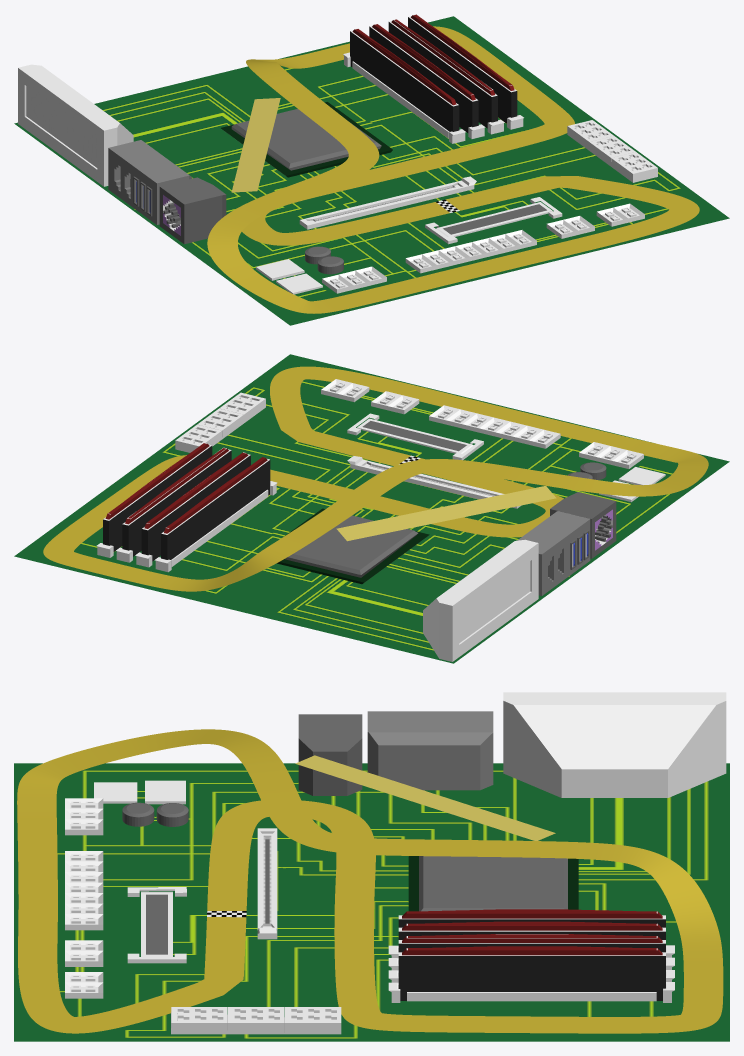
File: Motherboard.glb
The picture shows the model from 3 angles, top to bottom: view 1: azimuth 30°, elevation 25°; view 2: azimuth 150°, elevation 25°; view 3: azimuth 270°, elevation 25°; orthographic projection. The views are drawn at different scales.
Visible parts, largest first — view 1: Plane, track plane, Ram, MorePorts, plug, CPU, htmlPorts, boxPort, ports, shortcut, GraphicsPort, SSD (+3 smaller); view 2: Plane, track plane, Ram, MorePorts, CPU, plug, htmlPorts, shortcut, ports, boxPort, SSD, GraphicsPort (+2 smaller); view 3: Plane, track plane, Ram, MorePorts, htmlPorts, CPU, plug, ports, boxPort, shortcut, SSD, GraphicsPort (+2 smaller).
Boxes of the visible parts, bbox=[...] form: Plane: bbox=[14, 16, 729, 325]; track plane: bbox=[207, 26, 699, 313]; Ram: bbox=[343, 14, 523, 143]; MorePorts: bbox=[18, 64, 133, 186]; plug: bbox=[322, 203, 644, 293]; CPU: bbox=[221, 102, 392, 177]; htmlPorts: bbox=[108, 140, 192, 224]; boxPort: bbox=[159, 177, 226, 244]; ports: bbox=[567, 120, 657, 182]; shortcut: bbox=[231, 98, 280, 192]; GraphicsPort: bbox=[299, 176, 476, 229]; SSD: bbox=[425, 197, 562, 244]; Plane: bbox=[14, 354, 729, 663]; track plane: bbox=[43, 366, 708, 591]; Ram: bbox=[96, 443, 277, 572]; MorePorts: bbox=[423, 539, 538, 661]; CPU: bbox=[277, 508, 429, 584]; plug: bbox=[321, 379, 643, 468]; htmlPorts: bbox=[517, 511, 590, 595]; shortcut: bbox=[336, 486, 556, 541]; ports: bbox=[175, 392, 265, 452]; boxPort: bbox=[550, 492, 616, 558]; SSD: bbox=[347, 413, 483, 460]; GraphicsPort: bbox=[347, 456, 521, 508]; Plane: bbox=[14, 763, 729, 1041]; track plane: bbox=[17, 729, 723, 1033]; Ram: bbox=[388, 909, 674, 1002]; MorePorts: bbox=[503, 692, 726, 797]; htmlPorts: bbox=[367, 711, 493, 790]; CPU: bbox=[408, 856, 578, 911]; plug: bbox=[65, 798, 103, 998]; ports: bbox=[171, 1007, 341, 1034]; boxPort: bbox=[298, 714, 362, 795]; shortcut: bbox=[295, 755, 555, 840]; SSD: bbox=[127, 887, 186, 963]; GraphicsPort: bbox=[257, 828, 277, 939].
Size of the model in its own units: 288 by 34.48 by 304.
12 materials, 2 textured.
